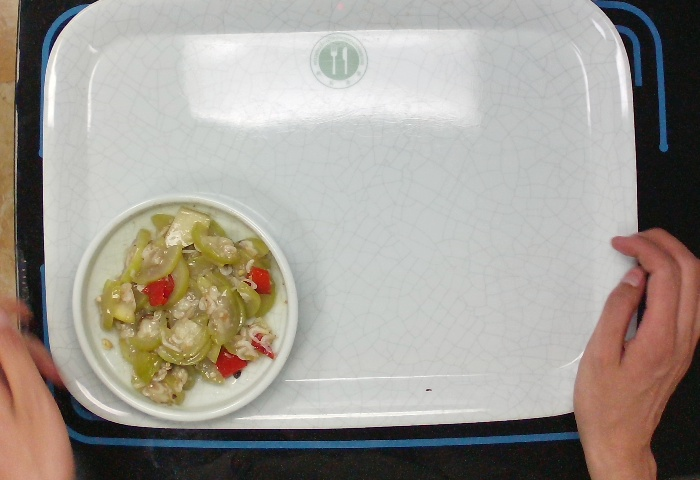JYsf-Xiao_Yuan_Pan: (64, 193, 312, 431)
